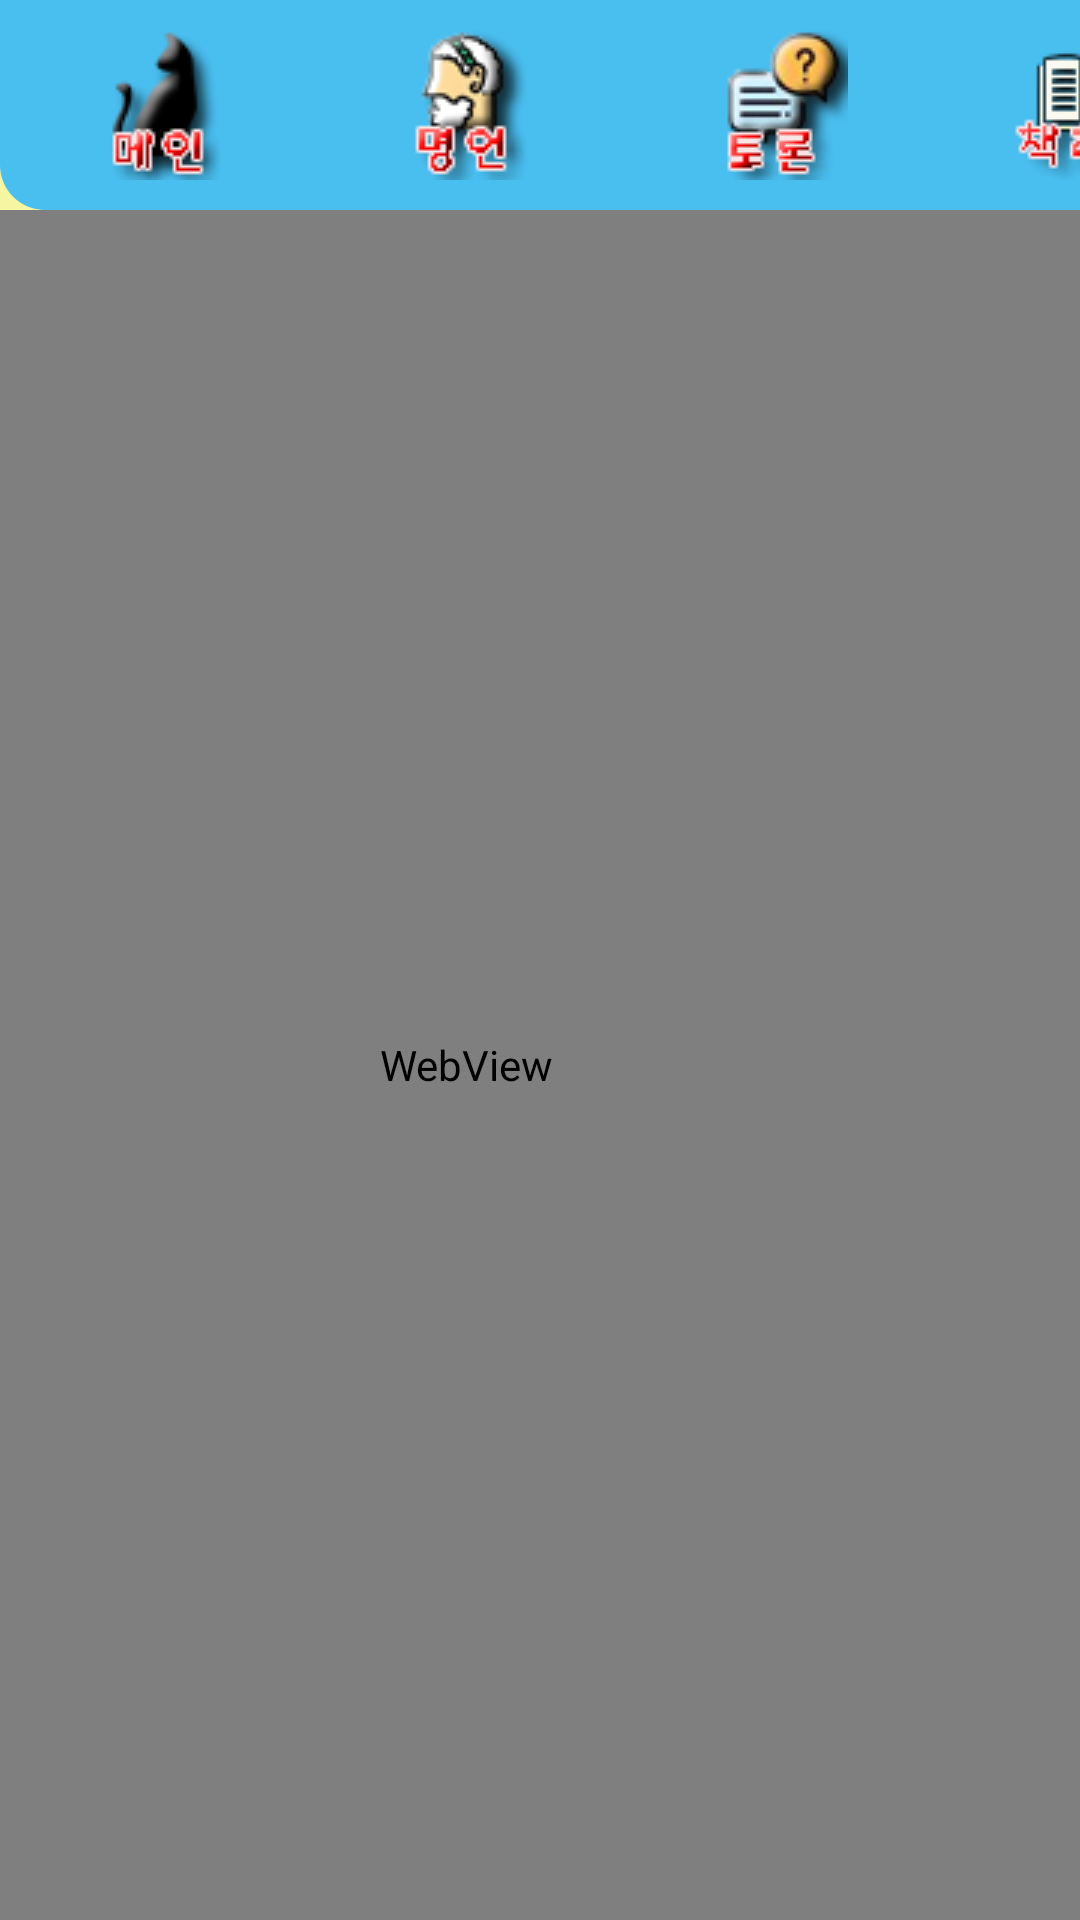

Screen size 1080 × 1920. Icon name, then its box in pixels as (x1, y1, x2, y2):
community: (727, 32, 848, 180)
